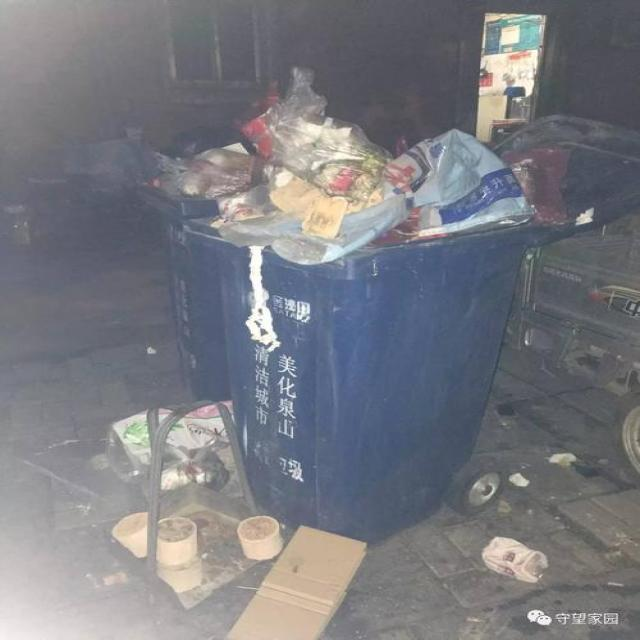garbage: (89, 396, 368, 639), (479, 536, 548, 580)
overflow: (182, 66, 570, 543), (138, 141, 251, 398)
